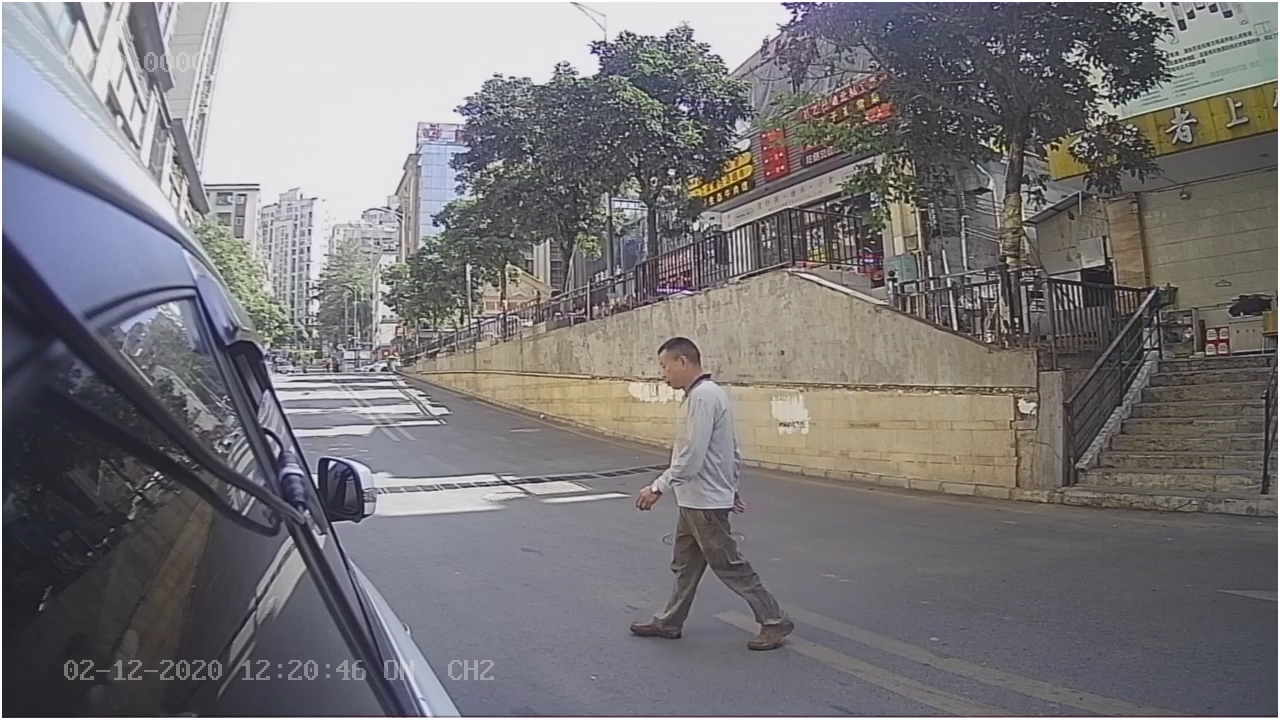person: (625, 329, 797, 650)
